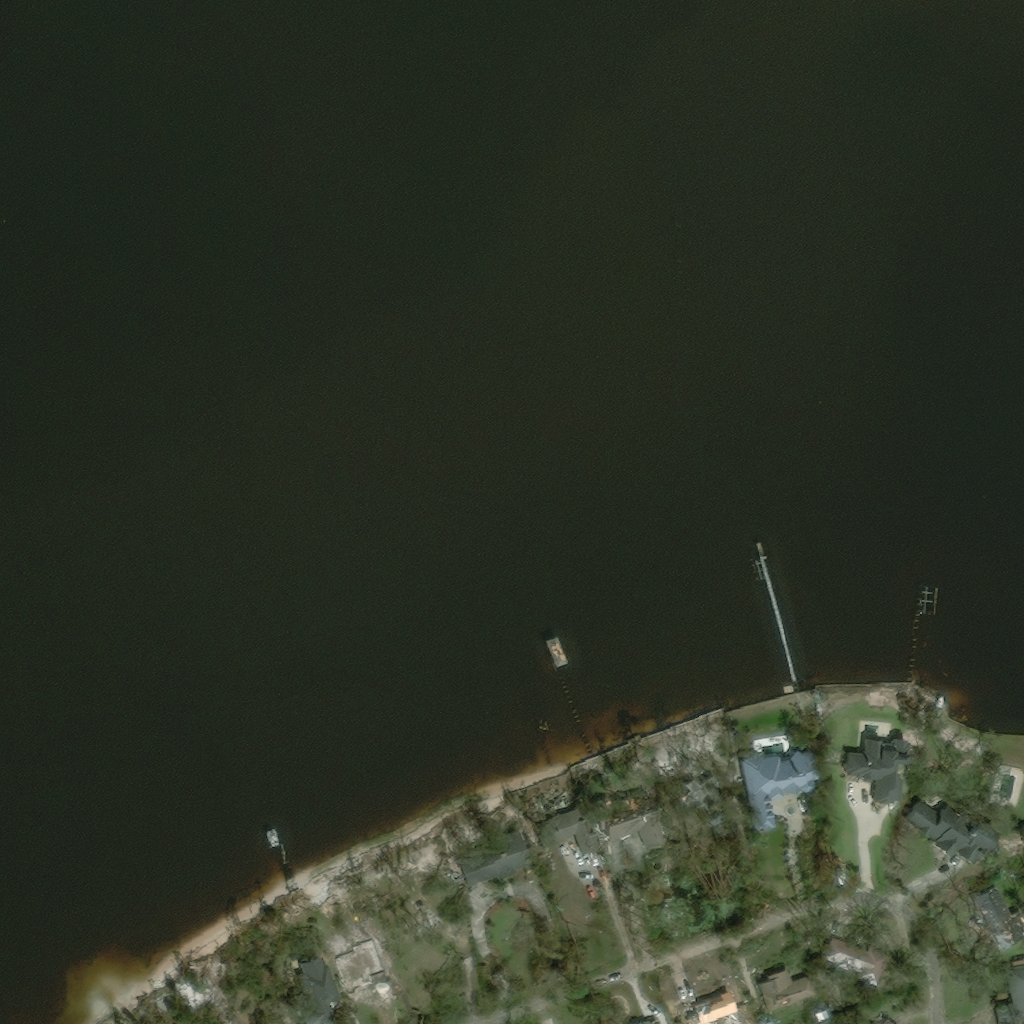destroyed: (333, 935, 392, 973), (920, 612, 933, 635)
major_damage: (587, 790, 657, 848)
minor_damage: (977, 885, 1023, 947), (827, 939, 883, 980), (762, 969, 813, 1011), (545, 635, 568, 666), (636, 1011, 659, 1023), (870, 1013, 886, 1023)
no_damage: (745, 749, 818, 829), (901, 801, 988, 868), (841, 739, 902, 801), (288, 958, 337, 1023), (473, 830, 527, 886), (533, 806, 595, 854), (990, 958, 1023, 1023)
